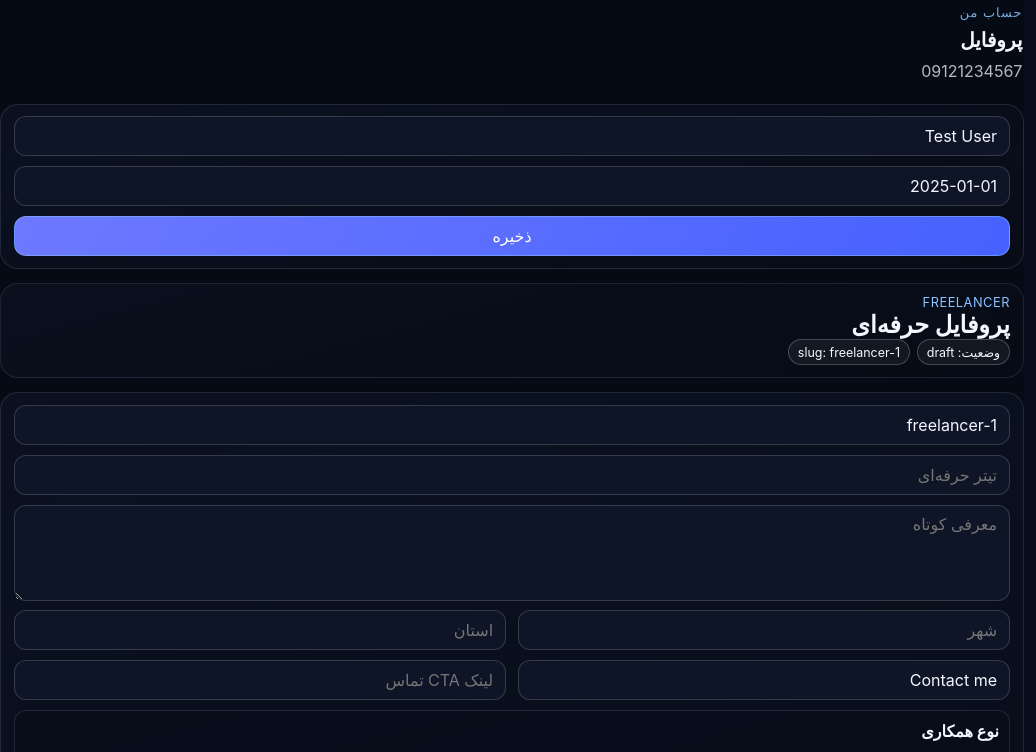
Test: forms surface api errors › shows profile save errors
Step 1. Replace the text in the 1st field with placeholder "نام کامل" with "Updated User" → (512, 136), box left=14, top=116, right=1010, bottom=156
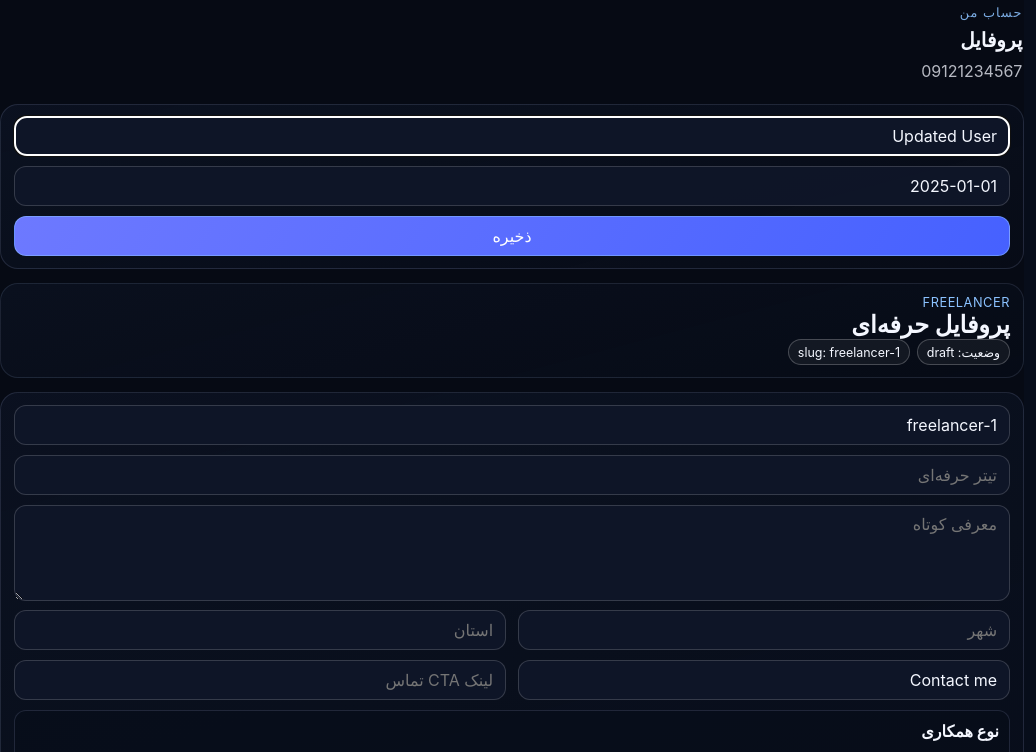
Step 2. Click the button "ذخیره" → (512, 236), box left=14, top=216, right=1010, bottom=256
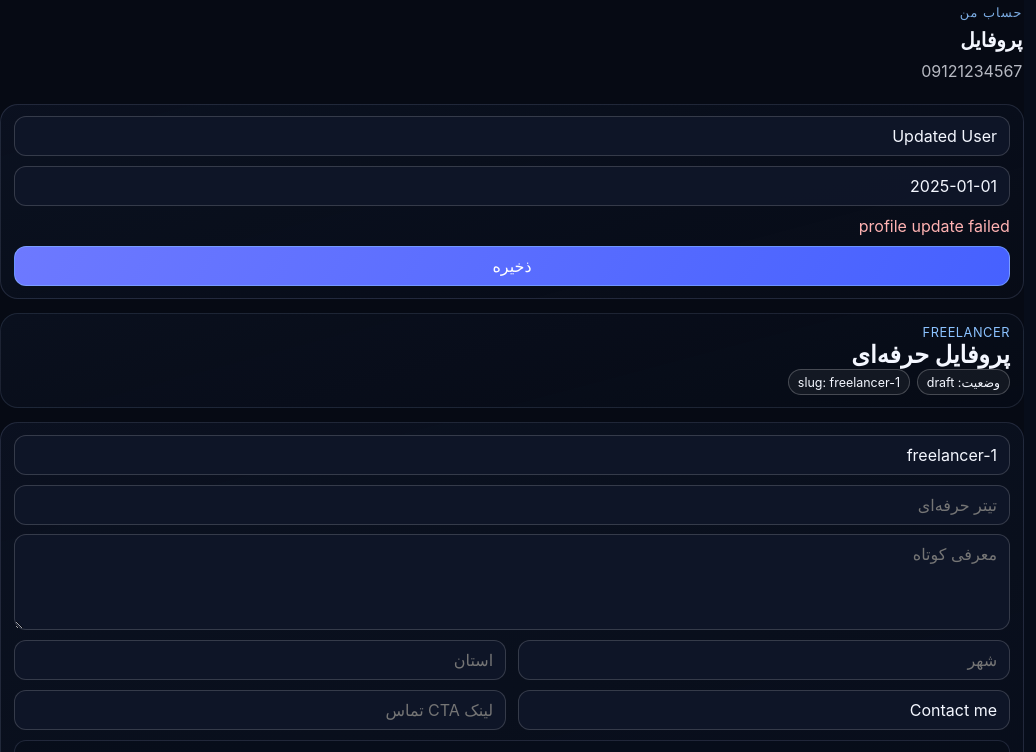
Expected: the text "profile update failed" is shown, left=859, top=216, right=1010, bottom=236
